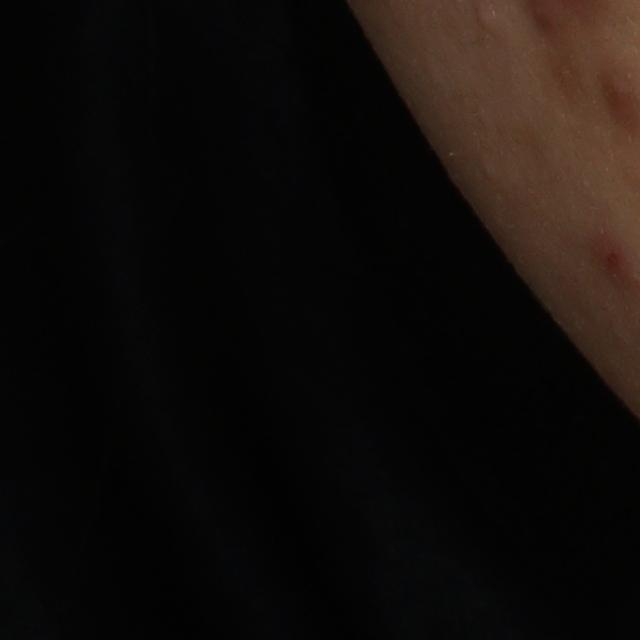comedo: (474, 3, 503, 41)
papule: (588, 235, 637, 285)
